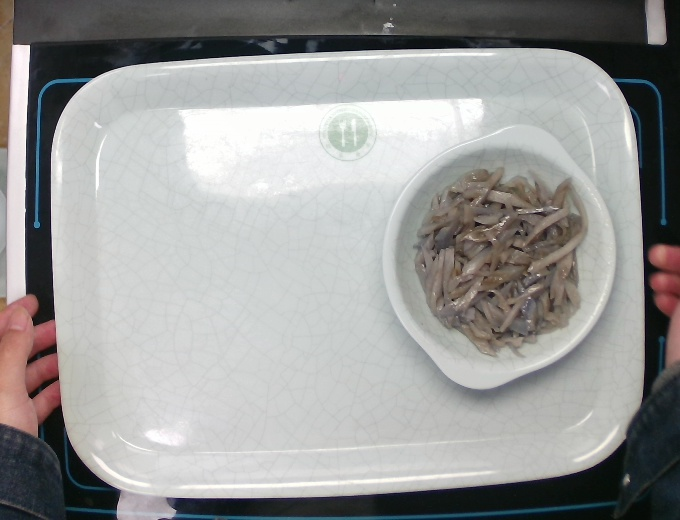JYsf-Shuang_Er_Wan: (378, 121, 619, 392)
